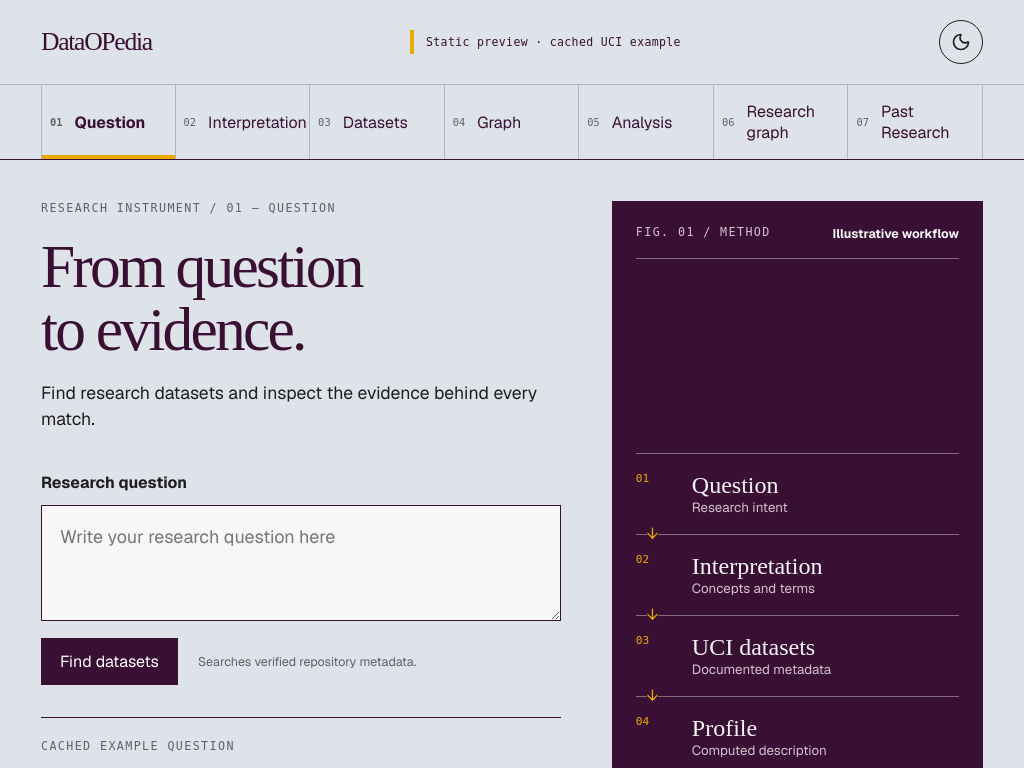
Test: renders the live interpretation and discovery response
The image size is (1024, 768).
Type "Does rainfall relate to crop yield?" into the text box labelled "Research question" at (301,563), box x1=41 y1=505 x2=561 y2=621
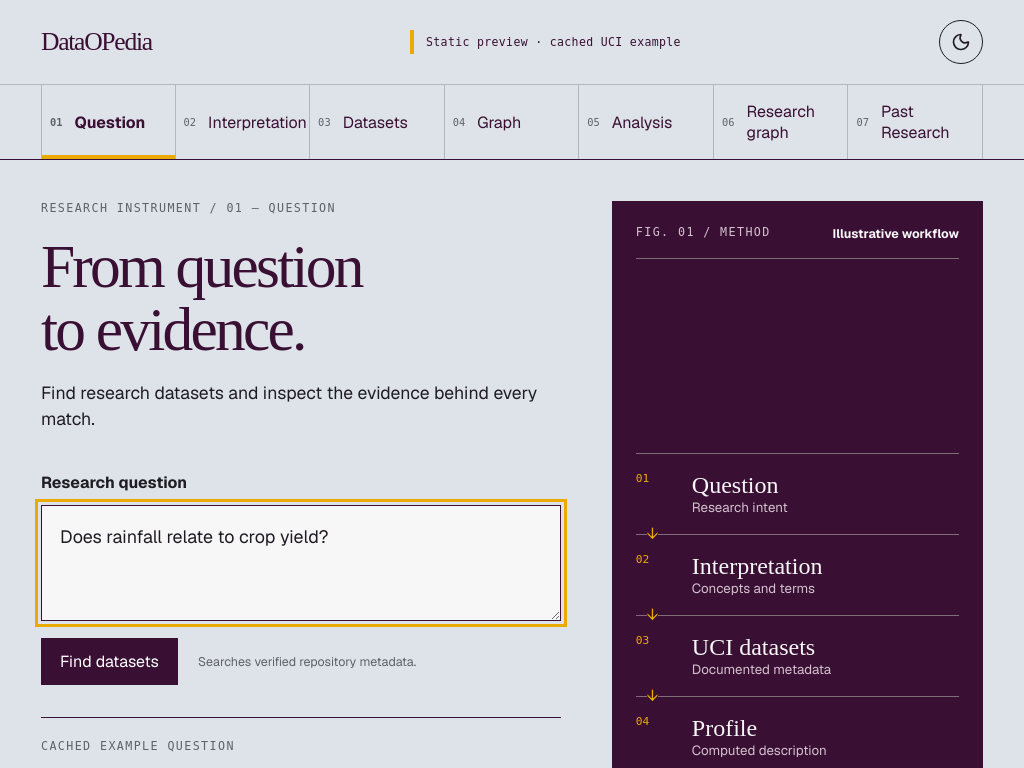
Click the button "Find datasets" at (110,662), box x1=41 y1=638 x2=178 y2=685
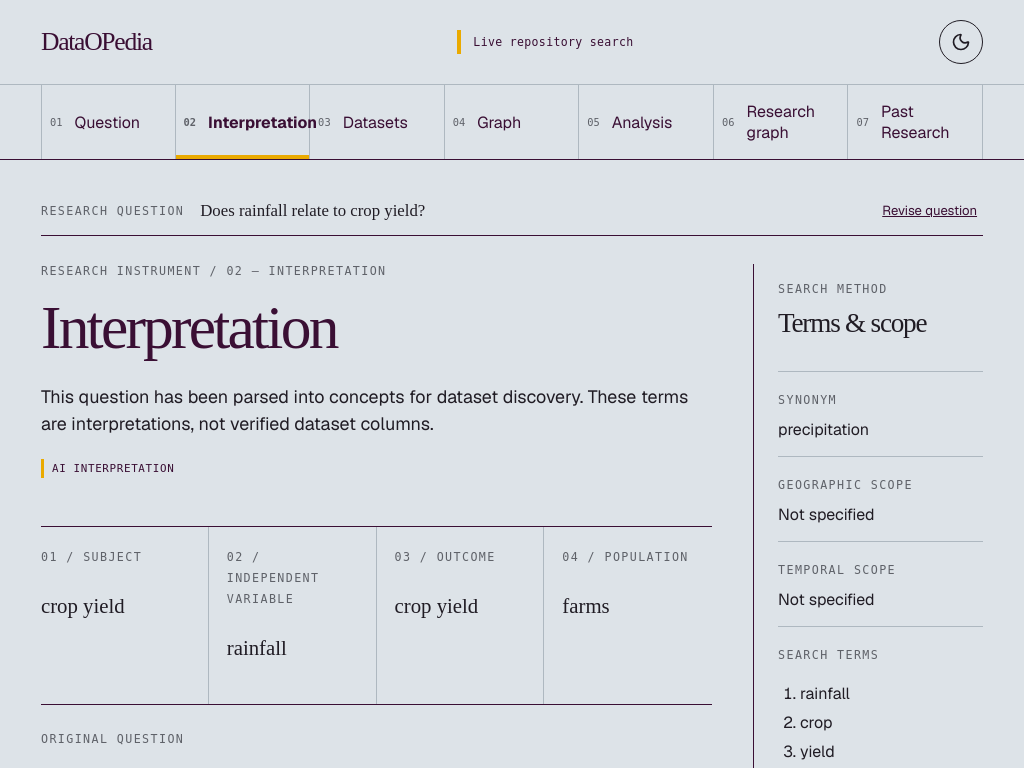
Check: the text "AI interpretation" is shown, box x1=41 y1=459 x2=182 y2=478
Check: the text "crop yield" below "Subject" is shown, box x1=41 y1=594 x2=125 y2=617
Check: the text "Live repository search" is shown, box x1=457 y1=30 x2=634 y2=54
Click the button "03 Datasets" at (377,122), box x1=310 y1=85 x2=445 y2=159
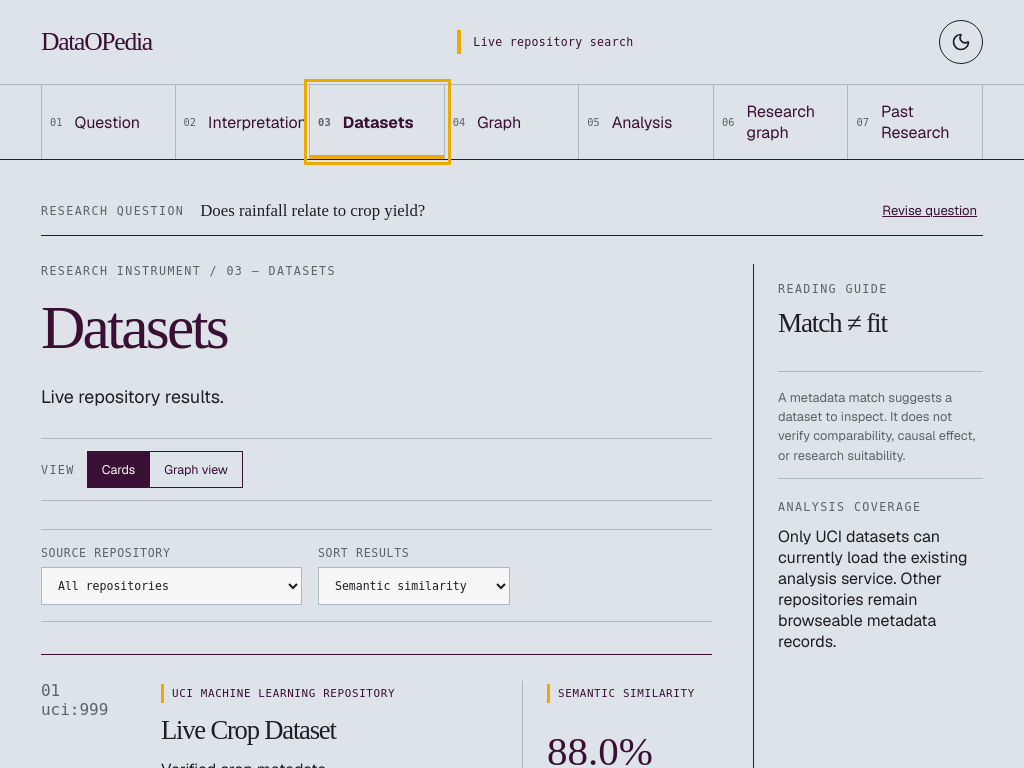
Check: the heading "Live Crop Dataset" is shown, box x1=161 y1=715 x2=336 y2=745
